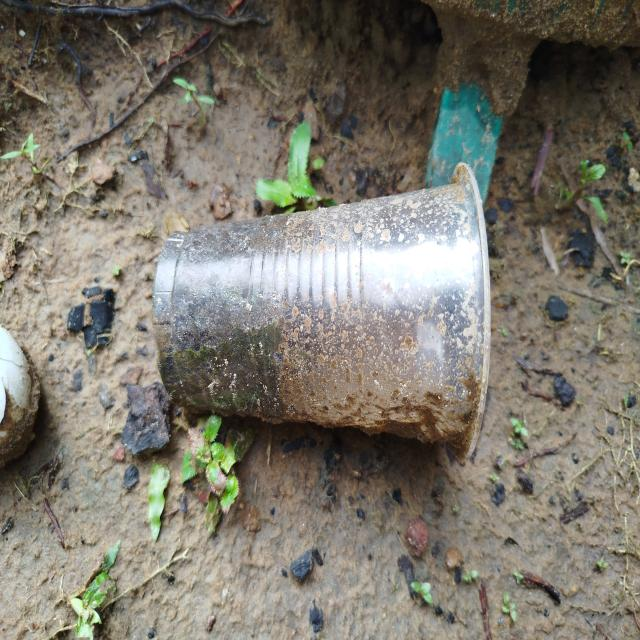plastic: (146, 147, 536, 483)
